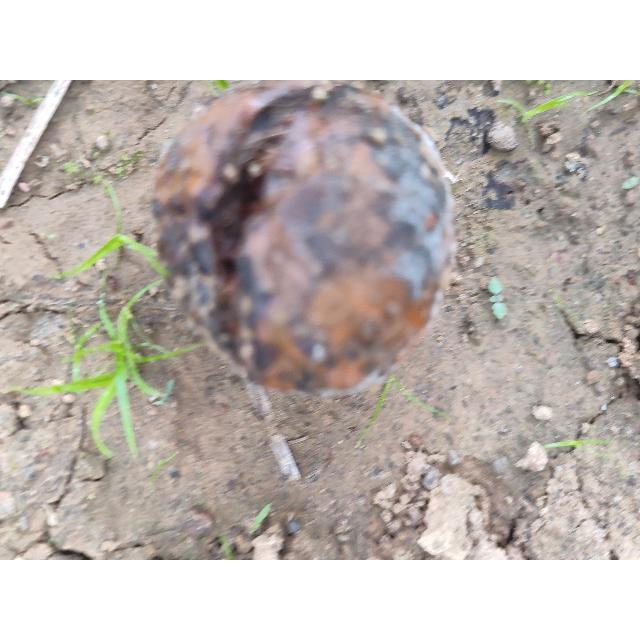damaged: (149, 80, 456, 397)
